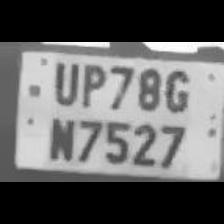2: (129, 119, 157, 167)
5: (98, 116, 130, 164)
7: (154, 119, 186, 169), (104, 61, 132, 111), (72, 114, 100, 164)
8: (134, 62, 162, 112)
G: (162, 62, 192, 114)
N: (44, 113, 76, 163)
P: (78, 59, 106, 109)
U: (48, 56, 80, 107)
